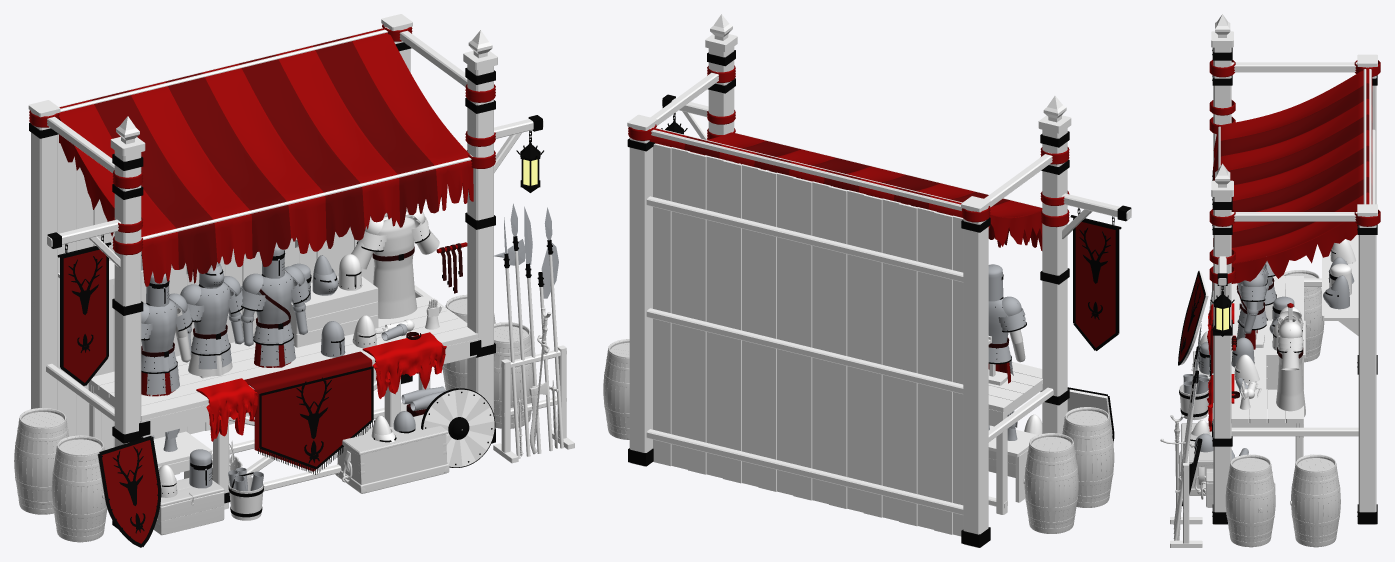
File: SilverbrookArmorVendor.fbx
3 renders of one model, left to right at view 1: azimuth 30°, elevation 25°; view 2: azimuth 150°, elevation 25°; view 3: azimuth 270°, elevation 25°, orthographic. The views are drawn at different scales.
Visible parts, largest first — view 1: SM_SBArmorVendor_Cloth, SM_SBArmorVendor_Timber, SM_SBArmorVendor_Armour, SM_SBArmorVendor_Details, wine_barrel_01_0, wooden_crate_02_0, wine_barrel_01_0.001, wine_barrel_01_0.002, wooden_crate_01_0, wooden_crate_02_1, wine_barrel_01_0.003, wooden_crate_01_2; view 2: SM_SBArmorVendor_Timber, SM_SBArmorVendor_Cloth, SM_SBArmorVendor_Details, wine_barrel_01_0.001, wine_barrel_01_0, SM_SBArmorVendor_Armour, wine_barrel_01_0.003; view 3: SM_SBArmorVendor_Timber, SM_SBArmorVendor_Cloth, SM_SBArmorVendor_Armour, SM_SBArmorVendor_Details, wine_barrel_01_0.003, wine_barrel_01_0.002, wine_barrel_01_0.001, wooden_crate_02_1, antique_estoc_0, wooden_crate_02_0, wine_barrel_01_3.002, wine_barrel_01_3.003 (+1 smaller).
Part boxes in pixels (x1=…): SM_SBArmorVendor_Cloth: x1=59, y1=27, x2=473, y2=543; SM_SBArmorVendor_Timber: x1=28, y1=14, x2=574, y2=515; SM_SBArmorVendor_Armour: x1=141, y1=203, x2=558, y2=520; SM_SBArmorVendor_Details: x1=29, y1=24, x2=553, y2=547; wine_barrel_01_0: x1=51, y1=435, x2=107, y2=542; wooden_crate_02_0: x1=335, y1=434, x2=449, y2=493; wine_barrel_01_0.001: x1=14, y1=408, x2=68, y2=514; wine_barrel_01_0.002: x1=494, y1=322, x2=533, y2=428; wooden_crate_01_0: x1=153, y1=491, x2=224, y2=535; wooden_crate_02_1: x1=342, y1=414, x2=448, y2=454; wine_barrel_01_0.003: x1=442, y1=294, x2=495, y2=390; wooden_crate_01_2: x1=160, y1=478, x2=224, y2=506; SM_SBArmorVendor_Timber: x1=627, y1=14, x2=1131, y2=547; SM_SBArmorVendor_Cloth: x1=649, y1=127, x2=1117, y2=383; SM_SBArmorVendor_Details: x1=627, y1=50, x2=1131, y2=547; wine_barrel_01_0.001: x1=1024, y1=433, x2=1078, y2=533; wine_barrel_01_0: x1=1062, y1=407, x2=1114, y2=507; SM_SBArmorVendor_Armour: x1=988, y1=264, x2=1042, y2=440; wine_barrel_01_0.003: x1=603, y1=339, x2=629, y2=439; SM_SBArmorVendor_Timber: x1=1170, y1=14, x2=1377, y2=547; SM_SBArmorVendor_Cloth: x1=1179, y1=68, x2=1372, y2=431; SM_SBArmorVendor_Armour: x1=1179, y1=239, x2=1355, y2=459; SM_SBArmorVendor_Details: x1=1178, y1=47, x2=1380, y2=524; wine_barrel_01_0.003: x1=1291, y1=454, x2=1340, y2=547; wine_barrel_01_0.002: x1=1225, y1=454, x2=1275, y2=547; wine_barrel_01_0.001: x1=1282, y1=270, x2=1324, y2=362; wooden_crate_02_1: x1=1181, y1=423, x2=1213, y2=466; antique_estoc_0: x1=1160, y1=415, x2=1193, y2=511; wooden_crate_02_0: x1=1179, y1=451, x2=1213, y2=495; wine_barrel_01_3.002: x1=1232, y1=458, x2=1268, y2=470; wine_barrel_01_3.003: x1=1297, y1=458, x2=1334, y2=470.
Size of the model in its own units: 552 by 435 by 243.
